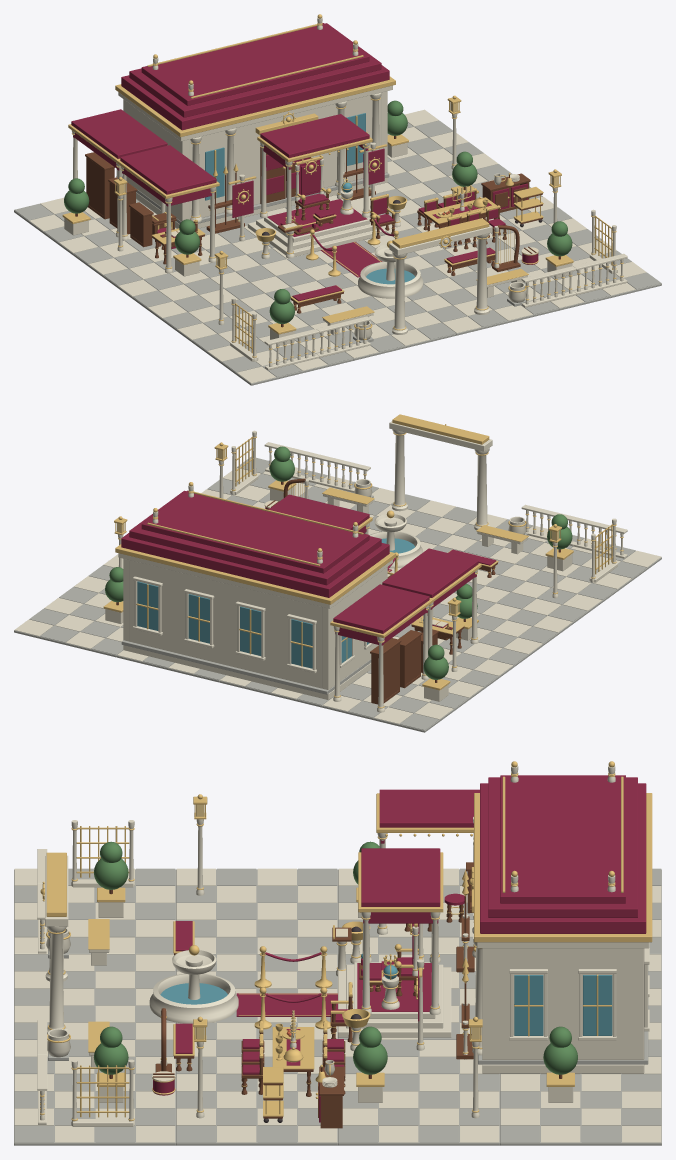
File: royal-courtyard.glb
3 renders of one model, top to bottom at view 1: azimuth 30°, elevation 25°; view 2: azimuth 150°, elevation 25°; view 3: azimuth 270°, elevation 25°, orthographic. The views are drawn at different scales.
Visible parts, largest first — view 1: 016-palace-audience-house/3, 016-palace-audience-house/0, 016-palace-audience-house/2, 040-ceremonial-canopy/2, 020-ceremonial-canopy/2, 002-courtyard-paving/1, 002-courtyard-paving/0, 039-ceremonial-canopy/2, 011-courtyard-paving/1, 003-courtyard-paving/1, 007-courtyard-paving/1, 088-courtyard-entry-arch/0 (+54 smaller); view 2: 016-palace-audience-house/0, 016-palace-audience-house/3, 016-palace-audience-house/5, 016-palace-audience-house/2, 039-ceremonial-canopy/2, 002-courtyard-paving/1, 040-ceremonial-canopy/2, 002-courtyard-paving/0, 012-courtyard-paving/1, 000-courtyard-paving/1, 003-courtyard-paving/1, 088-courtyard-entry-arch/0 (+36 smaller); view 3: 016-palace-audience-house/3, 016-palace-audience-house/0, 012-courtyard-paving/1, 013-courtyard-paving/1, 002-courtyard-paving/1, 020-ceremonial-canopy/2, 012-courtyard-paving/0, 002-courtyard-paving/0, 014-courtyard-paving/1, 015-courtyard-paving/1, 016-palace-audience-house/2, 013-courtyard-paving/0 (+48 smaller).
Part boxes in pixels (<box>): 016-palace-audience-house/3: <box>121,23,389,194</box>; 016-palace-audience-house/0: <box>118,17,392,228</box>; 016-palace-audience-house/2: <box>115,14,395,218</box>; 040-ceremonial-canopy/2: <box>120,145,216,206</box>; 020-ceremonial-canopy/2: <box>260,114,369,169</box>; 002-courtyard-paving/1: <box>132,278,272,341</box>; 002-courtyard-paving/0: <box>148,272,274,339</box>; 039-ceremonial-canopy/2: <box>71,109,167,170</box>; 011-courtyard-paving/1: <box>407,271,559,335</box>; 003-courtyard-paving/1: <box>192,321,353,385</box>; 007-courtyard-paving/1: <box>295,296,456,360</box>; 088-courtyard-entry-arch/0: <box>389,224,492,334</box>; 016-palace-audience-house/0: <box>118,485,392,699</box>; 016-palace-audience-house/3: <box>121,490,389,597</box>; 016-palace-audience-house/5: <box>137,581,369,668</box>; 016-palace-audience-house/2: <box>115,482,395,666</box>; 039-ceremonial-canopy/2: <box>333,584,429,645</box>; 002-courtyard-paving/1: <box>477,575,602,645</box>; 040-ceremonial-canopy/2: <box>382,548,478,609</box>; 002-courtyard-paving/0: <box>441,581,602,637</box>; 012-courtyard-paving/1: <box>14,587,123,657</box>; 000-courtyard-paving/1: <box>322,670,483,732</box>; 003-courtyard-paving/1: <box>515,535,661,601</box>; 088-courtyard-entry-arch/0: <box>389,421,492,530</box>; 016-palace-audience-house/3: <box>480,775,646,933</box>; 016-palace-audience-house/0: <box>472,765,649,1073</box>; 012-courtyard-paving/1: <box>500,1074,661,1145</box>; 013-courtyard-paving/1: <box>338,1074,499,1145</box>; 002-courtyard-paving/1: <box>176,868,337,937</box>; 020-ceremonial-canopy/2: <box>361,848,440,923</box>; 012-courtyard-paving/0: <box>500,1074,661,1142</box>; 002-courtyard-paving/0: <box>176,868,337,937</box>; 014-courtyard-paving/1: <box>176,1074,337,1145</box>; 015-courtyard-paving/1: <box>14,1074,175,1145</box>; 016-palace-audience-house/2: <box>469,761,652,1049</box>; 013-courtyard-paving/0: <box>342,1074,499,1142</box>.
Size of the model in its own units: 16 by 5.25 by 16.
